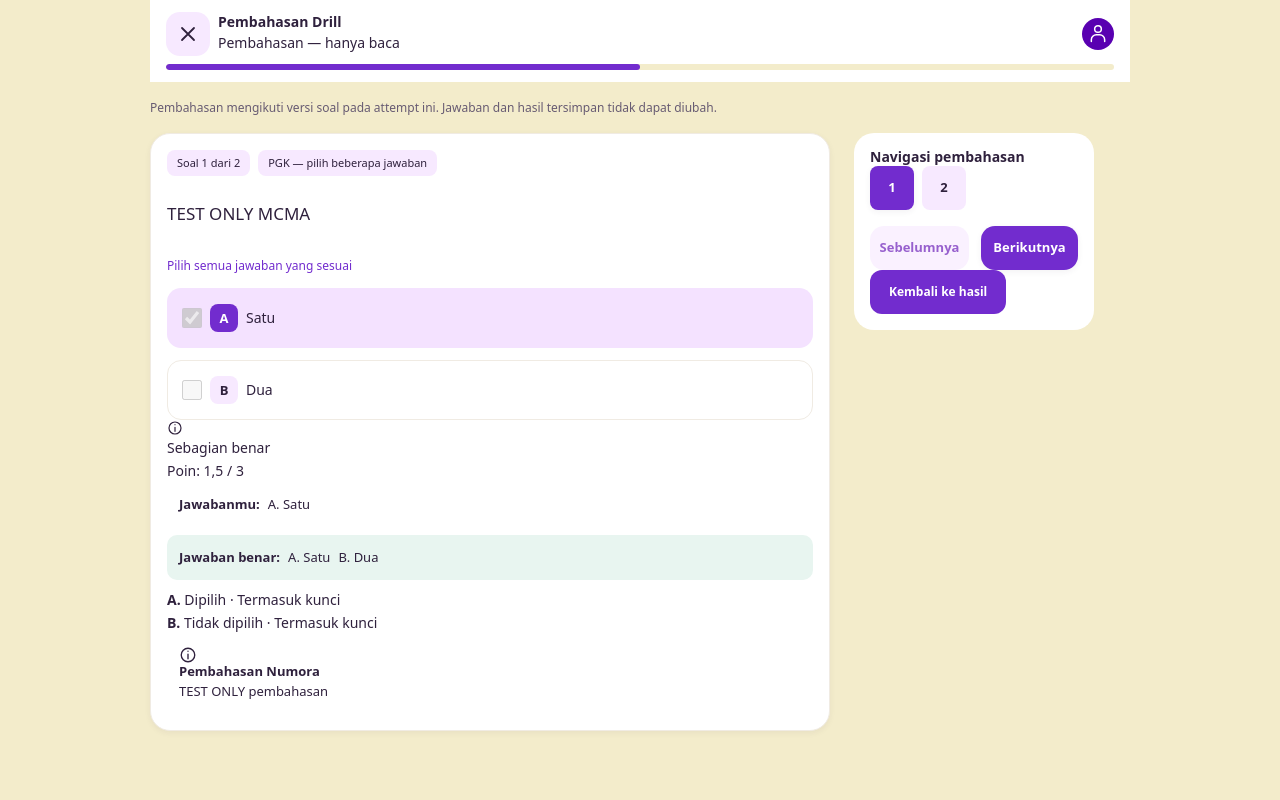
Test case: renders a dedicated read-only question layout with explanation underneath and navigates
Check: the text "Sebagian benar" is shown, box [167,420,270,457]
Check: the element showing "Pilih semua jawaban yang sesuai A Satu B Dua" is shown, box [167,256,813,420]
Click the button "Berikutnya" at [1030, 248], box [981,226,1078,270]
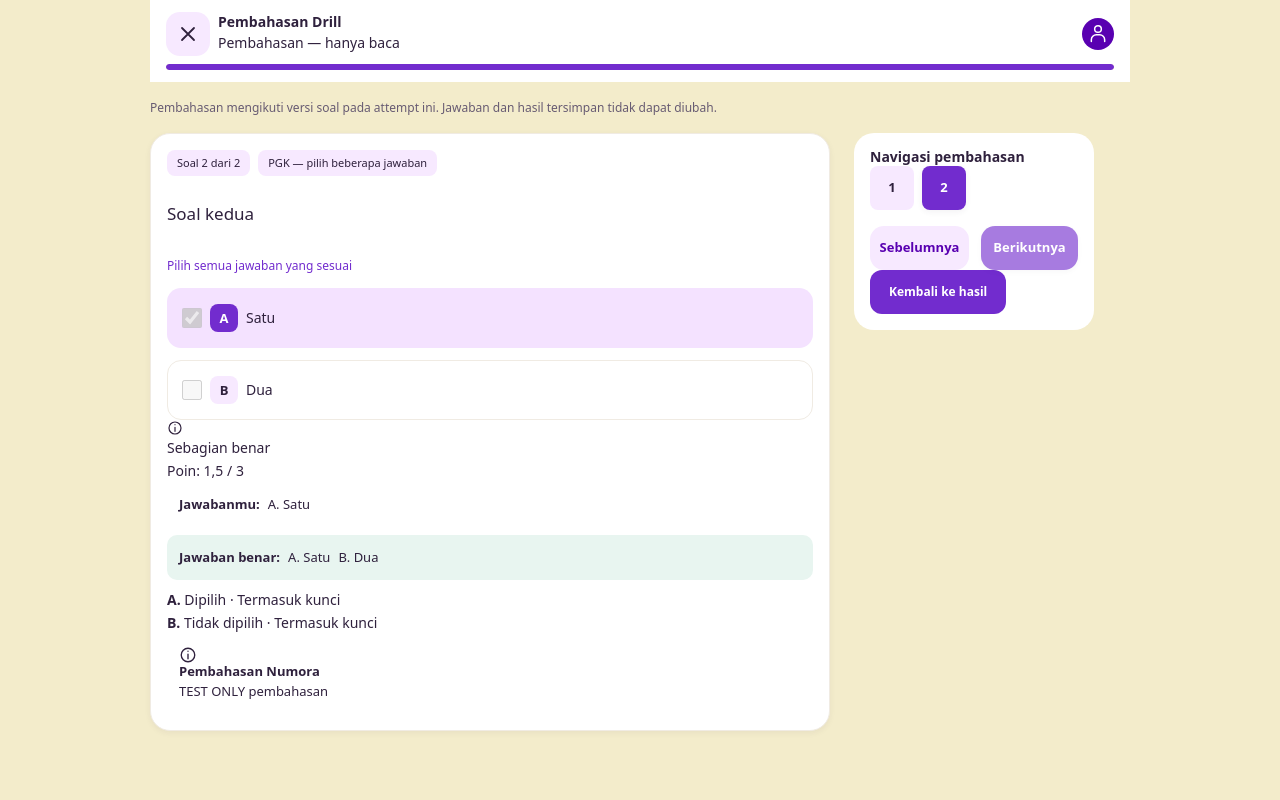
Check: the heading "Soal kedua" is shown, box [167,202,254,225]
